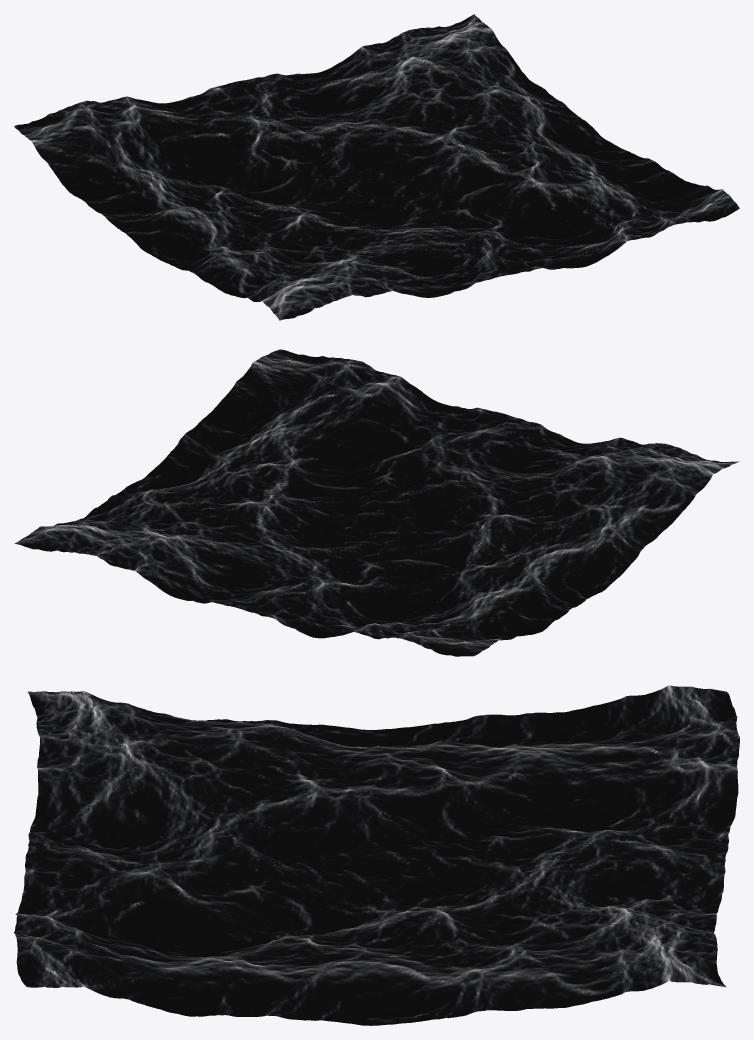
Rendered from ocean.glb.
3 views of the same model, one above another, from view 1: azimuth 30°, elevation 25°; view 2: azimuth 150°, elevation 25°; view 3: azimuth 270°, elevation 25° (orthographic). The views are drawn at different scales.
Visible parts, largest first — view 1: Plane; view 2: Plane; view 3: Plane.
Part boxes in pixels (x1,y1,x2,y2): Plane: (14,14,739,320); Plane: (14,349,739,656); Plane: (14,685,739,1025).
Size of the model in its own units: 2991 by 246 by 3016.
Materials: 1 (1 with a texture image).
